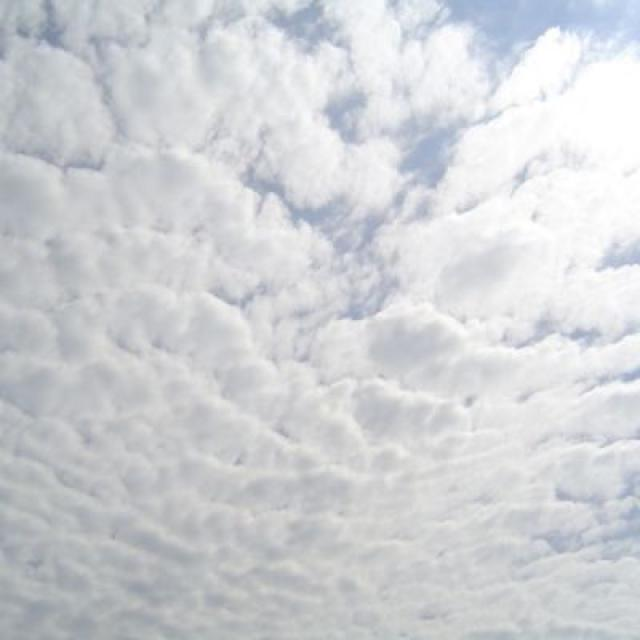Ac: (1, 29, 640, 595)
